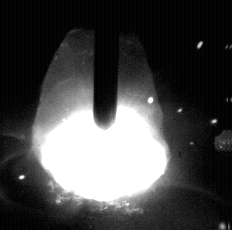arame: (94, 0, 119, 130)
poca: (31, 0, 165, 230)
